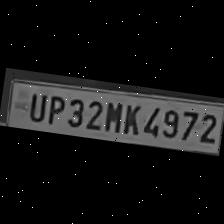2: (195, 110, 220, 145), (82, 96, 104, 131)
3: (62, 93, 86, 128)
4: (138, 103, 162, 139)
7: (176, 106, 198, 142)
9: (156, 104, 180, 140)
K: (118, 99, 143, 136)
M: (101, 98, 125, 134)
P: (43, 92, 65, 126)
U: (22, 89, 46, 123)
